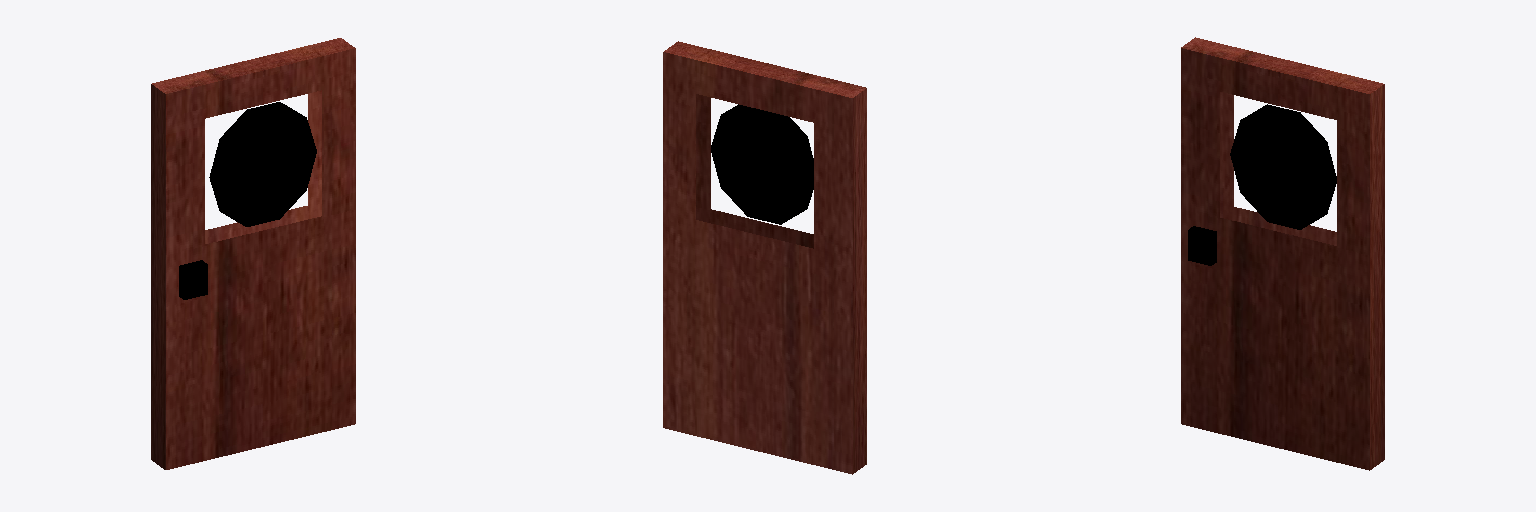
3 renders of one model, left to right at view 1: azimuth 30°, elevation 25°; view 2: azimuth 150°, elevation 25°; view 3: azimuth 330°, elevation 25°, orthographic.
Visible parts, largest first — view 1: pCube3; view 2: pCube3; view 3: pCube3.
Part boxes in pixels (x1,y1,x2,y2): pCube3: (151, 38, 355, 469); pCube3: (663, 41, 866, 474); pCube3: (1181, 37, 1384, 470).
Bounding box in the file's own units: 1.87 × 3.54 × 0.3439.
Materials: 3 (1 with a texture image).